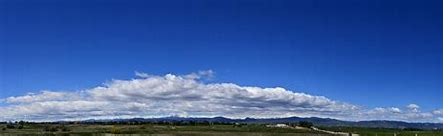Stratus: (7, 68, 440, 120)
